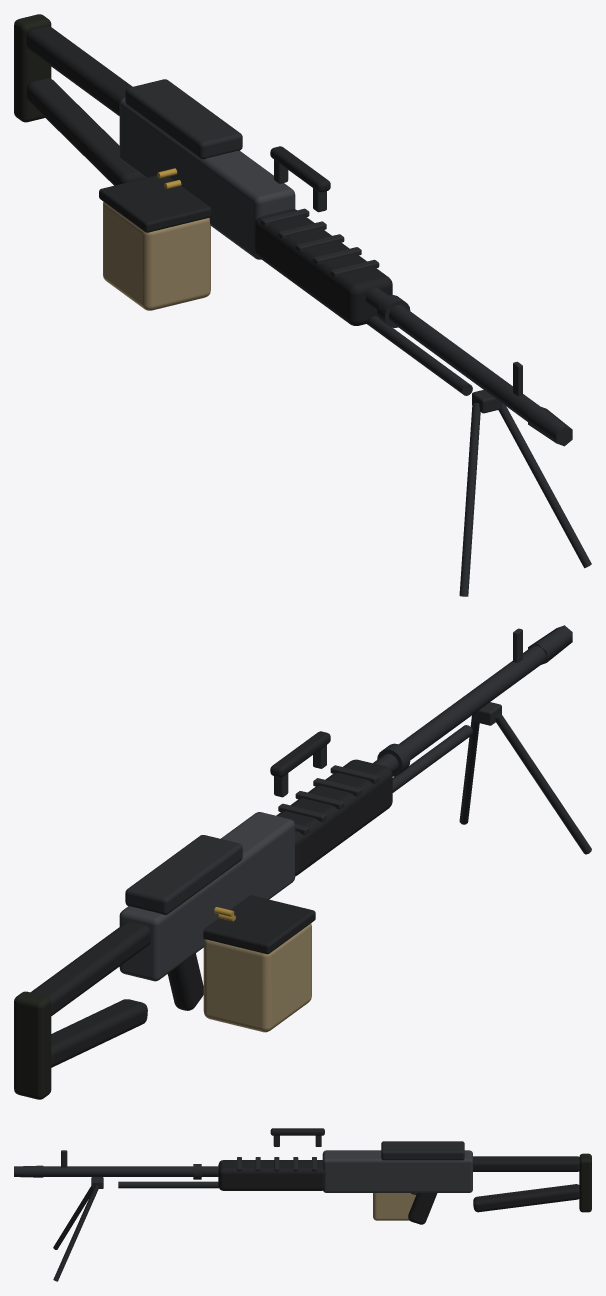
File: machine_gun.glb
3 renders of one model, top to bottom at view 1: azimuth 30°, elevation 25°; view 2: azimuth 150°, elevation 25°; view 3: azimuth 270°, elevation 25°, orthographic. The views are drawn at different scales.
Visible parts, largest first — view 1: Receiver, AmmoBox, Handguard, FeedCover, StockBottom, AmmoBoxLid, Barrel, StockTop, BipodLeg (×2), ButtPlate, GasTube, FlashHider (+1 smaller); view 2: Receiver, AmmoBox, Handguard, FeedCover, AmmoBoxLid, StockTop, ButtPlate, Barrel, StockBottom, BipodLeg (×2), Grip, GasTube (+2 smaller); view 3: Receiver, Handguard, Barrel, StockBottom, StockTop, FeedCover, AmmoBox, BipodLeg (×2), GasTube, ButtPlate, Grip, CarryHandle (+1 smaller).
Boxes of the visible parts, x1,y1,x2,y2 form: Receiver: (119,97,295,259); AmmoBox: (103,202,210,310); Handguard: (255,209,392,325); FeedCover: (125,79,242,159); StockBottom: (26,78,144,185); AmmoBoxLid: (99,175,211,232); Barrel: (365,287,539,421); StockTop: (26,26,132,115); BipodLeg (×2): (459,403,591,596); ButtPlate: (14,14,51,122); GasTube: (367,316,472,395); FlashHider: (528,405,572,446); Receiver: (119,812,295,981); AmmoBox: (203,923,311,1032); Handguard: (276,759,392,876); FeedCover: (125,835,242,914); AmmoBoxLid: (203,895,315,954); StockTop: (30,921,150,1015); ButtPlate: (14,991,51,1099); Barrel: (373,645,545,773); StockBottom: (51,999,147,1067); BipodLeg (×2): (459,712,591,854); Grip: (167,953,203,1010); GasTube: (392,725,472,792); Receiver: (322,1150,472,1192); Handguard: (218,1160,325,1190); Barrel: (43,1166,218,1176); StockBottom: (473,1184,579,1212); StockTop: (473,1156,579,1171); FeedCover: (381,1141,464,1160); AmmoBox: (373,1193,415,1220); BipodLeg (×2): (53,1185,99,1281); GasTube: (118,1181,218,1188); ButtPlate: (579,1153,591,1212); Grip: (408,1193,437,1224); CarryHandle: (270,1128,324,1135).
Size of the model in its own units: 0.225 by 0.361 by 1.38.
